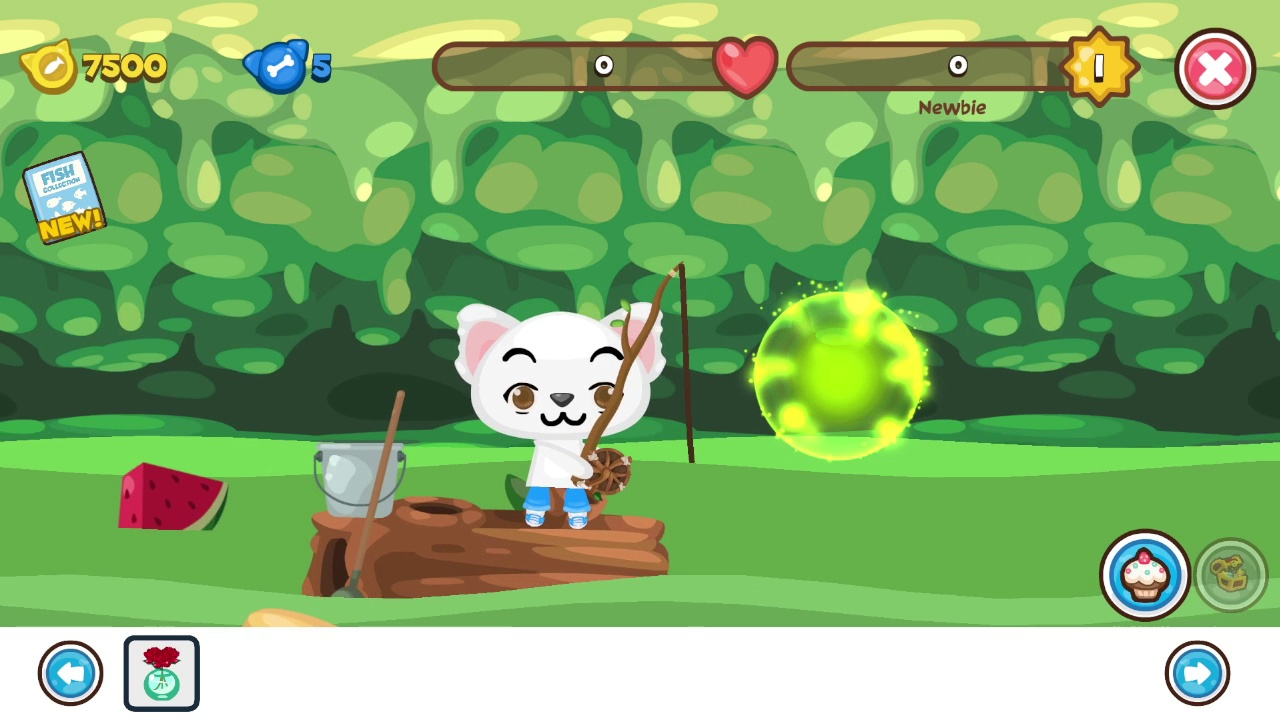point: (751, 292, 925, 458)
